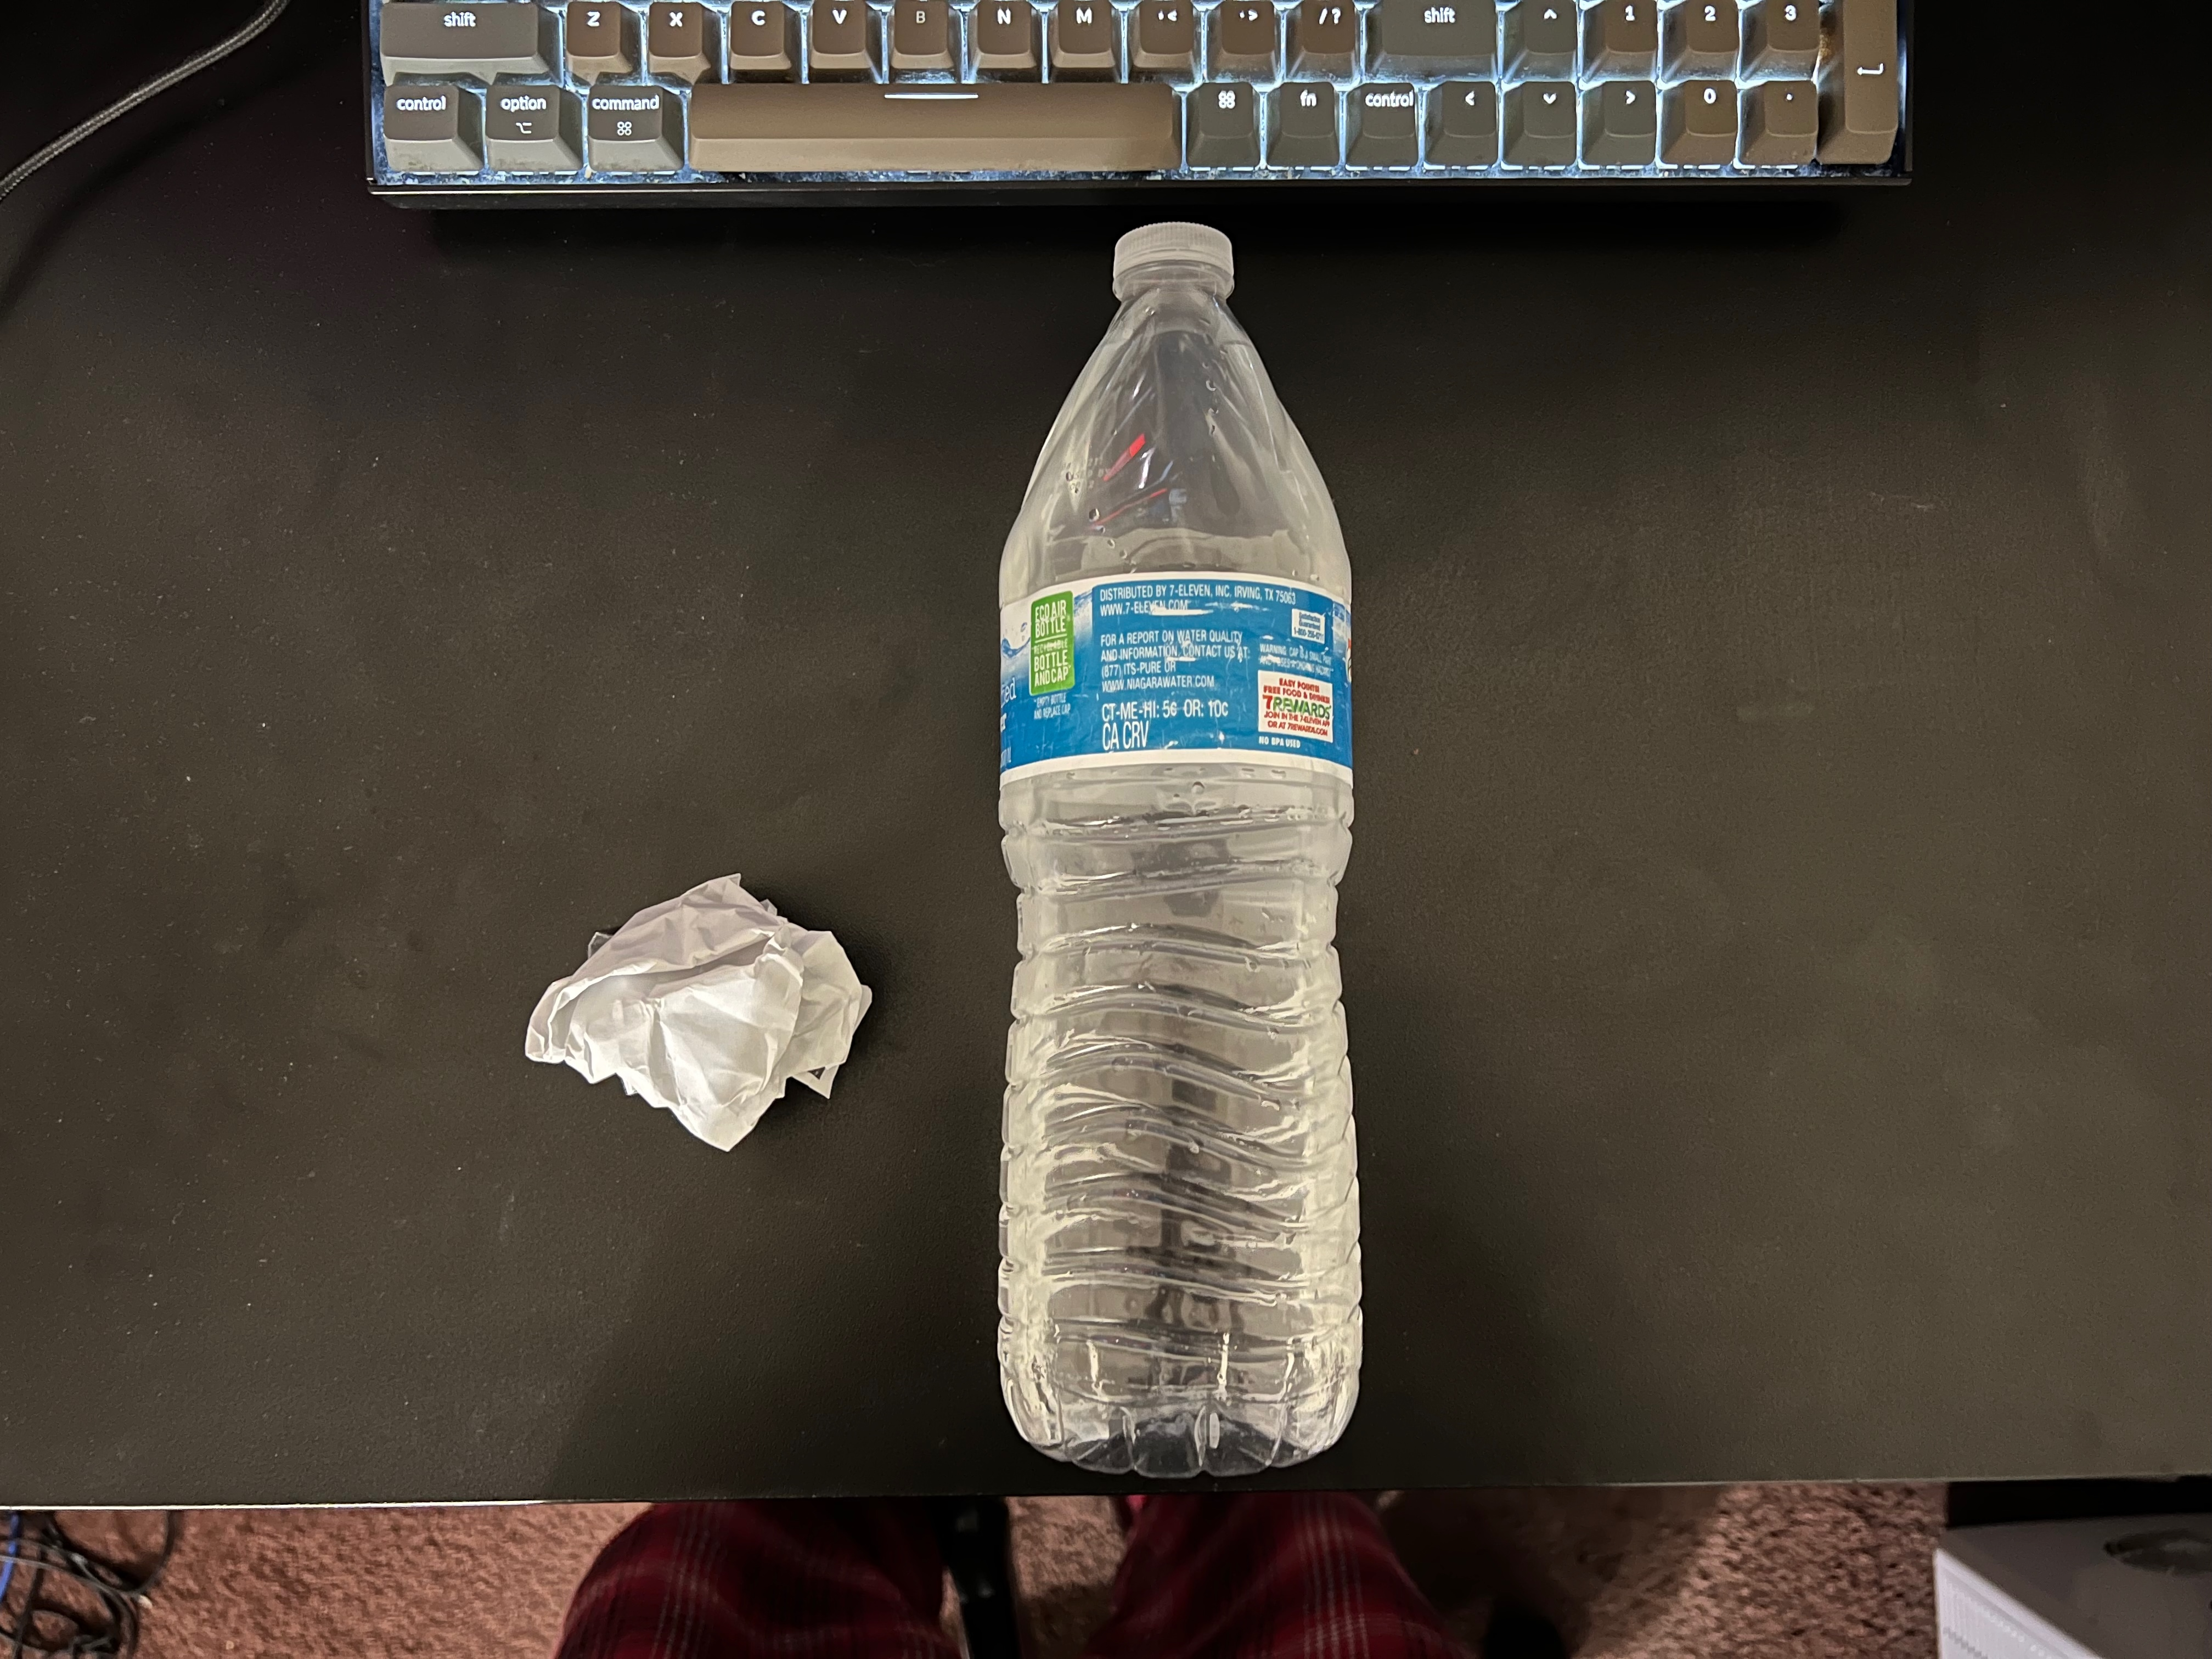trash bottle: (988, 204, 1378, 1490)
trash paper: (510, 863, 902, 1169)
